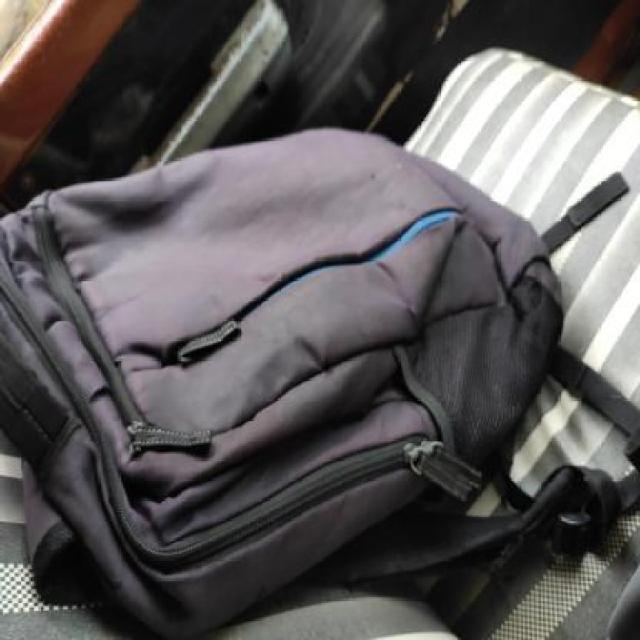backpack: (0, 121, 569, 640)
